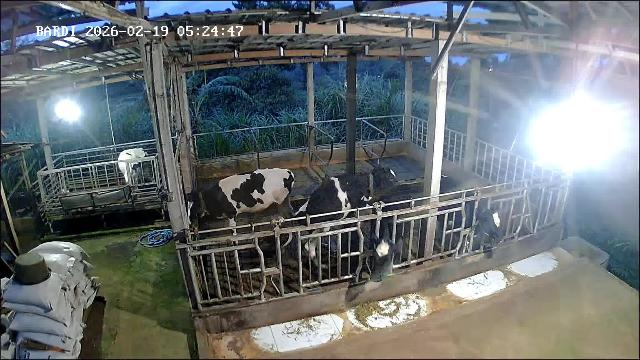mounting: (288, 163, 400, 271)
